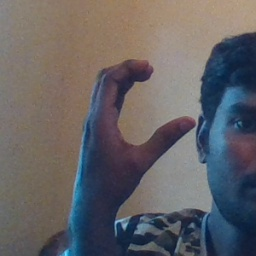C: (78, 53, 204, 170)
